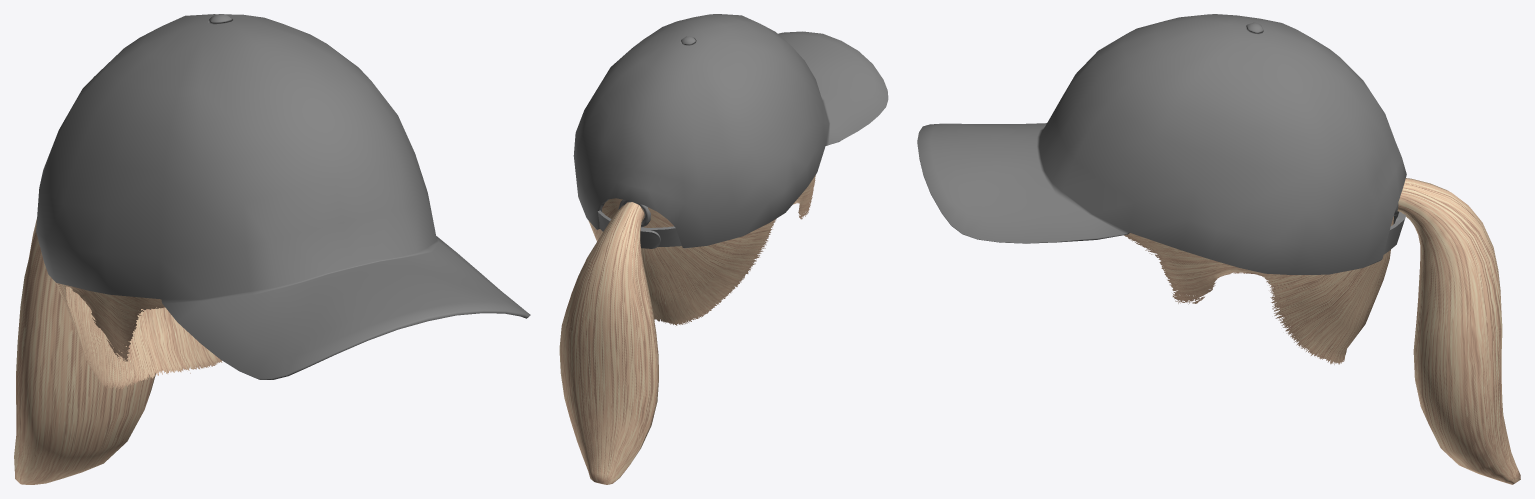
Rendered from BaseballHat_Hair_01.obj.
The picture shows the model from 3 angles, left to right: view 1: azimuth 30°, elevation 25°; view 2: azimuth 150°, elevation 25°; view 3: azimuth 270°, elevation 25°; orthographic projection. The views are drawn at different scales.
Bounding box in the file's own units: 16.34 × 27.68 × 32.46.
